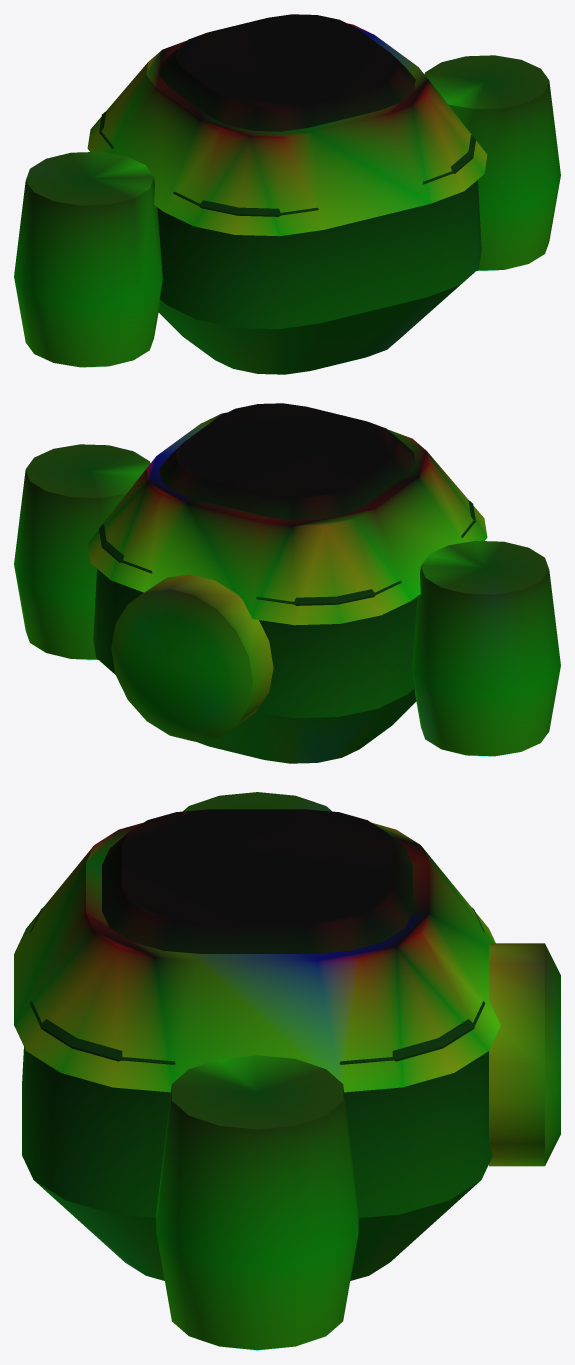
File: hero_frost_drone.glb
3 views of the same model, one above another, from view 1: azimuth 30°, elevation 25°; view 2: azimuth 150°, elevation 25°; view 3: azimuth 270°, elevation 25° (orthographic). The views are drawn at different scales.
Visible parts, largest first — view 1: HeroFrostDrone; view 2: HeroFrostDrone; view 3: HeroFrostDrone.
Boxes of the visible parts, <box> form: HeroFrostDrone: <box>14,14,560,374</box>; HeroFrostDrone: <box>14,403,560,763</box>; HeroFrostDrone: <box>14,792,560,1350</box>.
Bounding box in the file's own units: 2.08 × 1 × 1.37.
